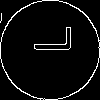L: (25, 25, 70, 53)
